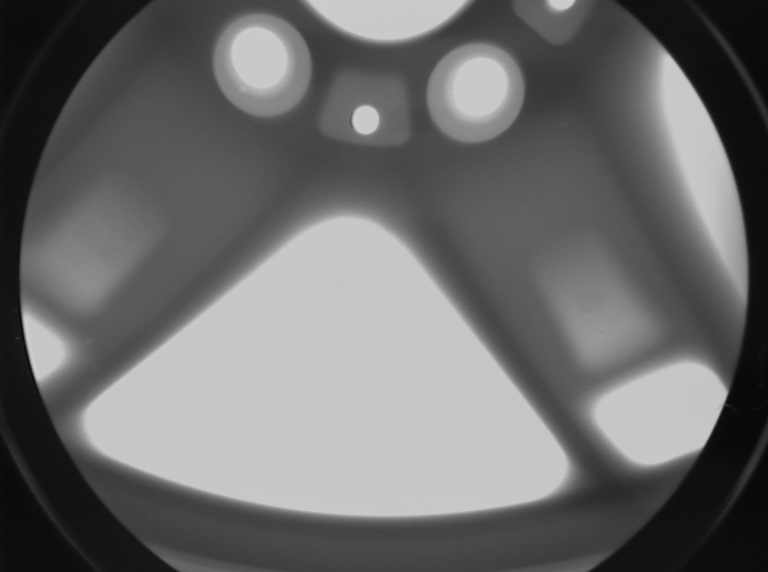defect: (87, 359, 102, 377)
